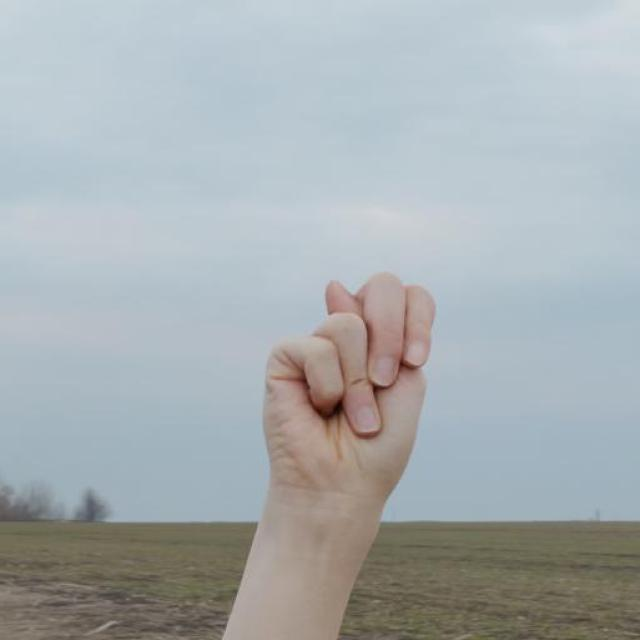N: (257, 267, 439, 508)
